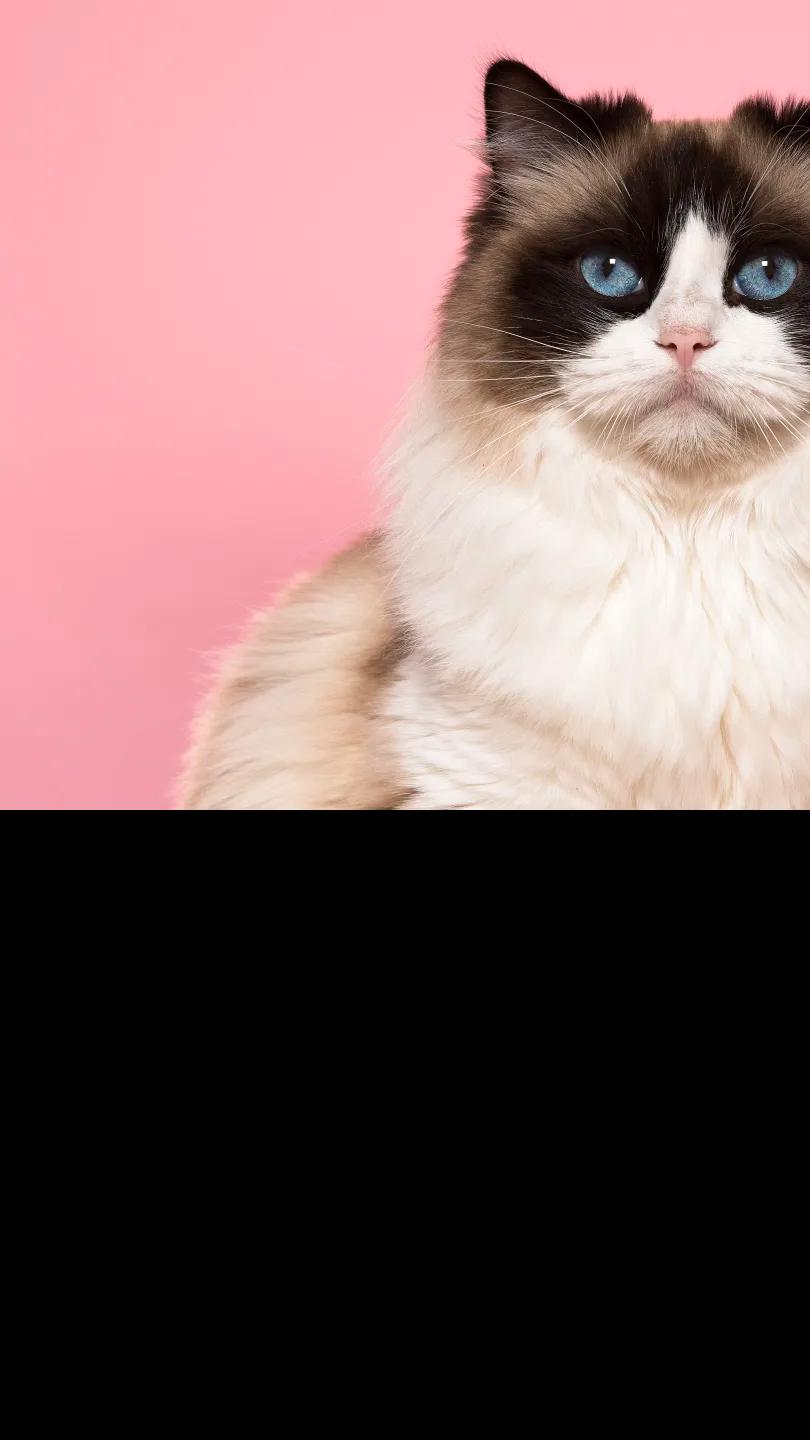ragdoll: (459, 51, 810, 489)
